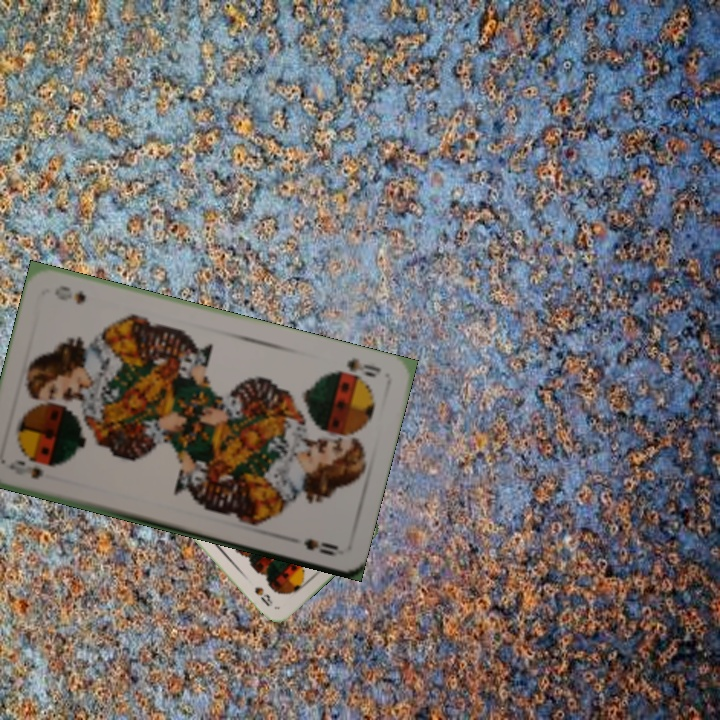SO: (332, 353, 384, 381), (5, 456, 45, 482)
